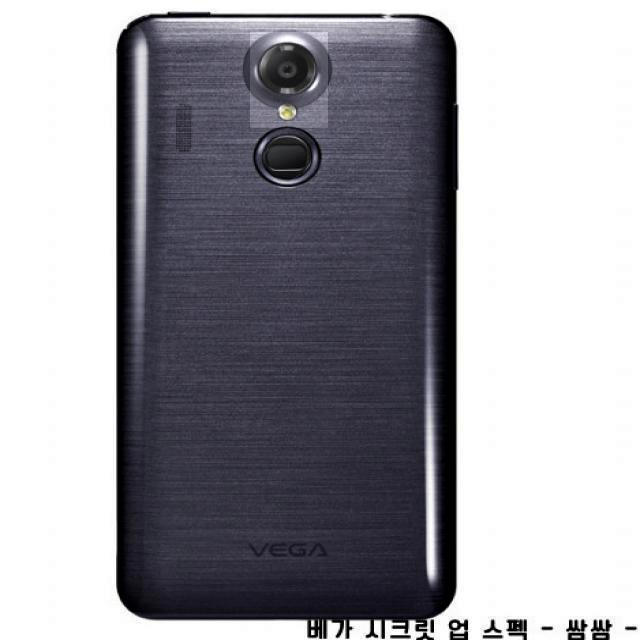lens_back: (247, 39, 332, 107)
phone: (109, 7, 461, 620)
